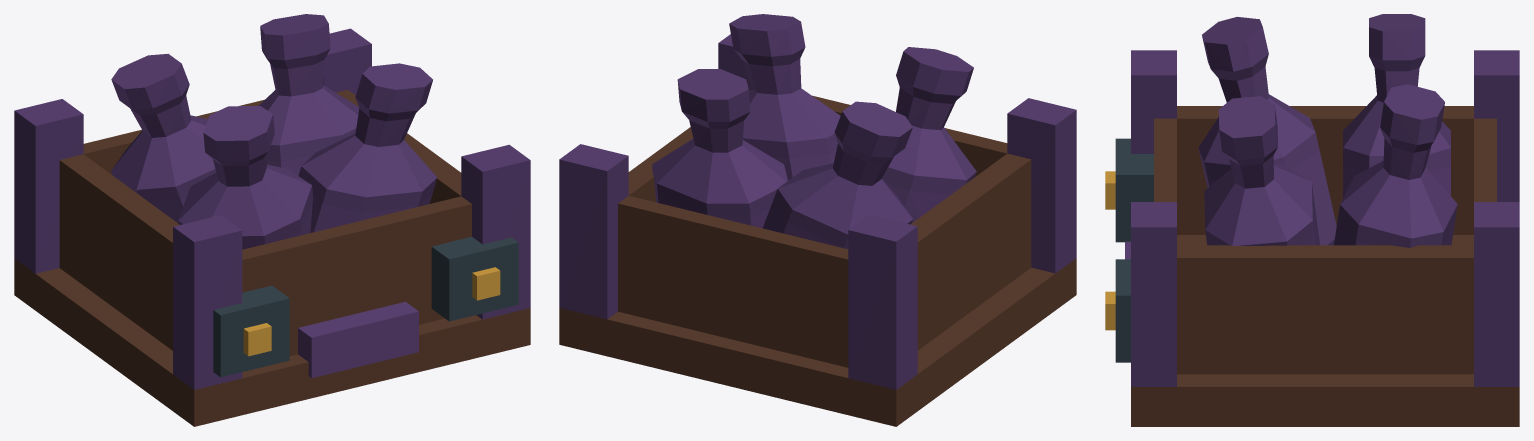
Rendered from bottle-crate-lilac.glb.
The picture shows the model from 3 angles, left to right: view 1: azimuth 30°, elevation 25°; view 2: azimuth 150°, elevation 25°; view 3: azimuth 270°, elevation 25°; orthographic projection. The views are drawn at different scales.
Parts seen in each view (by area): view 1: bottle-crate-lilac; view 2: bottle-crate-lilac; view 3: bottle-crate-lilac.
Part boxes in pixels (x1,y1,x2,y2): bottle-crate-lilac: (14, 14, 530, 426); bottle-crate-lilac: (559, 14, 1076, 426); bottle-crate-lilac: (1105, 14, 1519, 426).
Bounding box in the file's own units: 0.68 × 0.49 × 0.6719.
